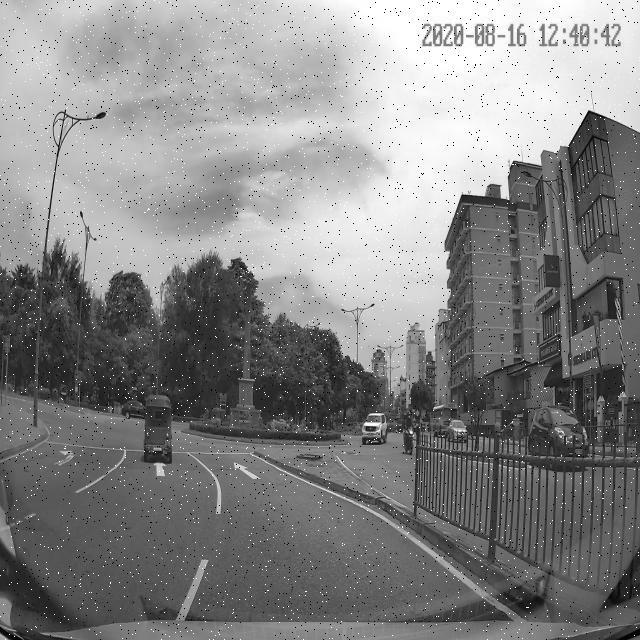forward: (189, 454, 331, 490)
